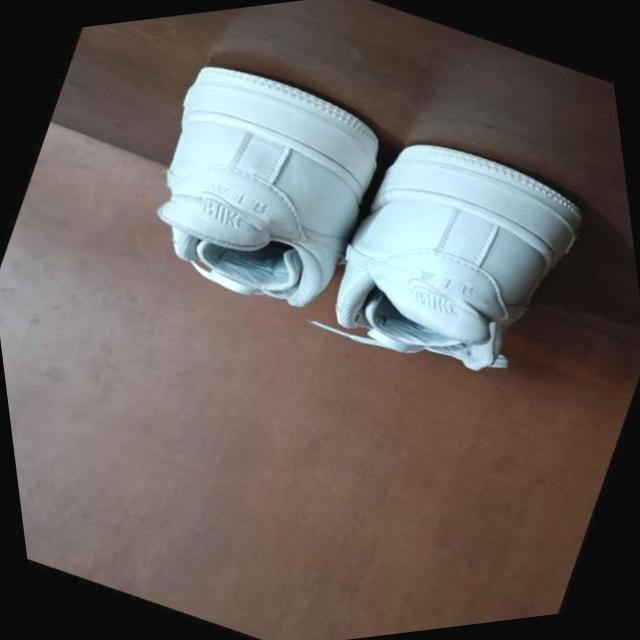nike_original_airforce: (298, 97, 622, 418), (99, 29, 414, 347)
